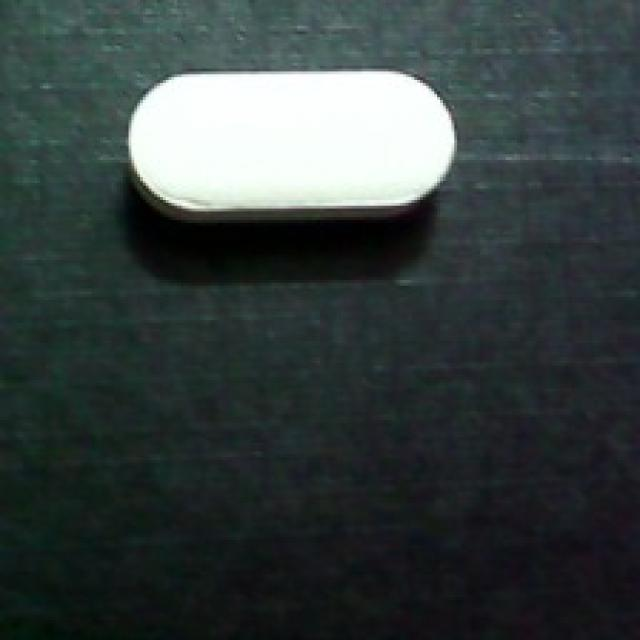no-defect: (123, 57, 460, 231)
